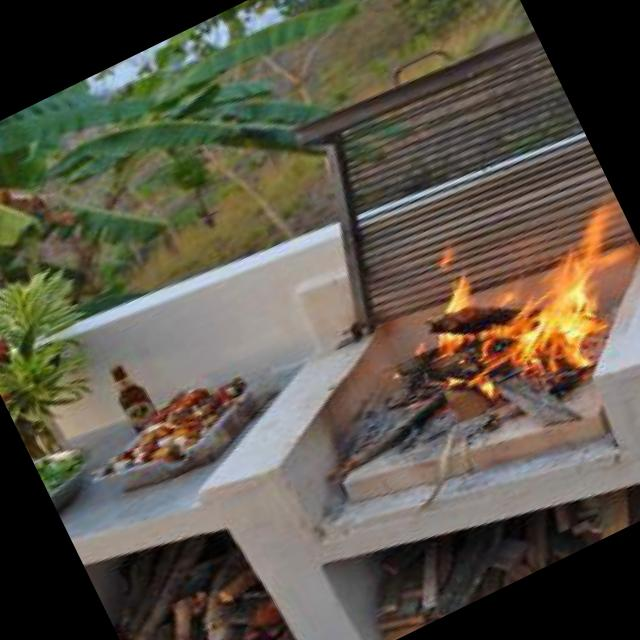fire: (387, 163, 640, 413)
